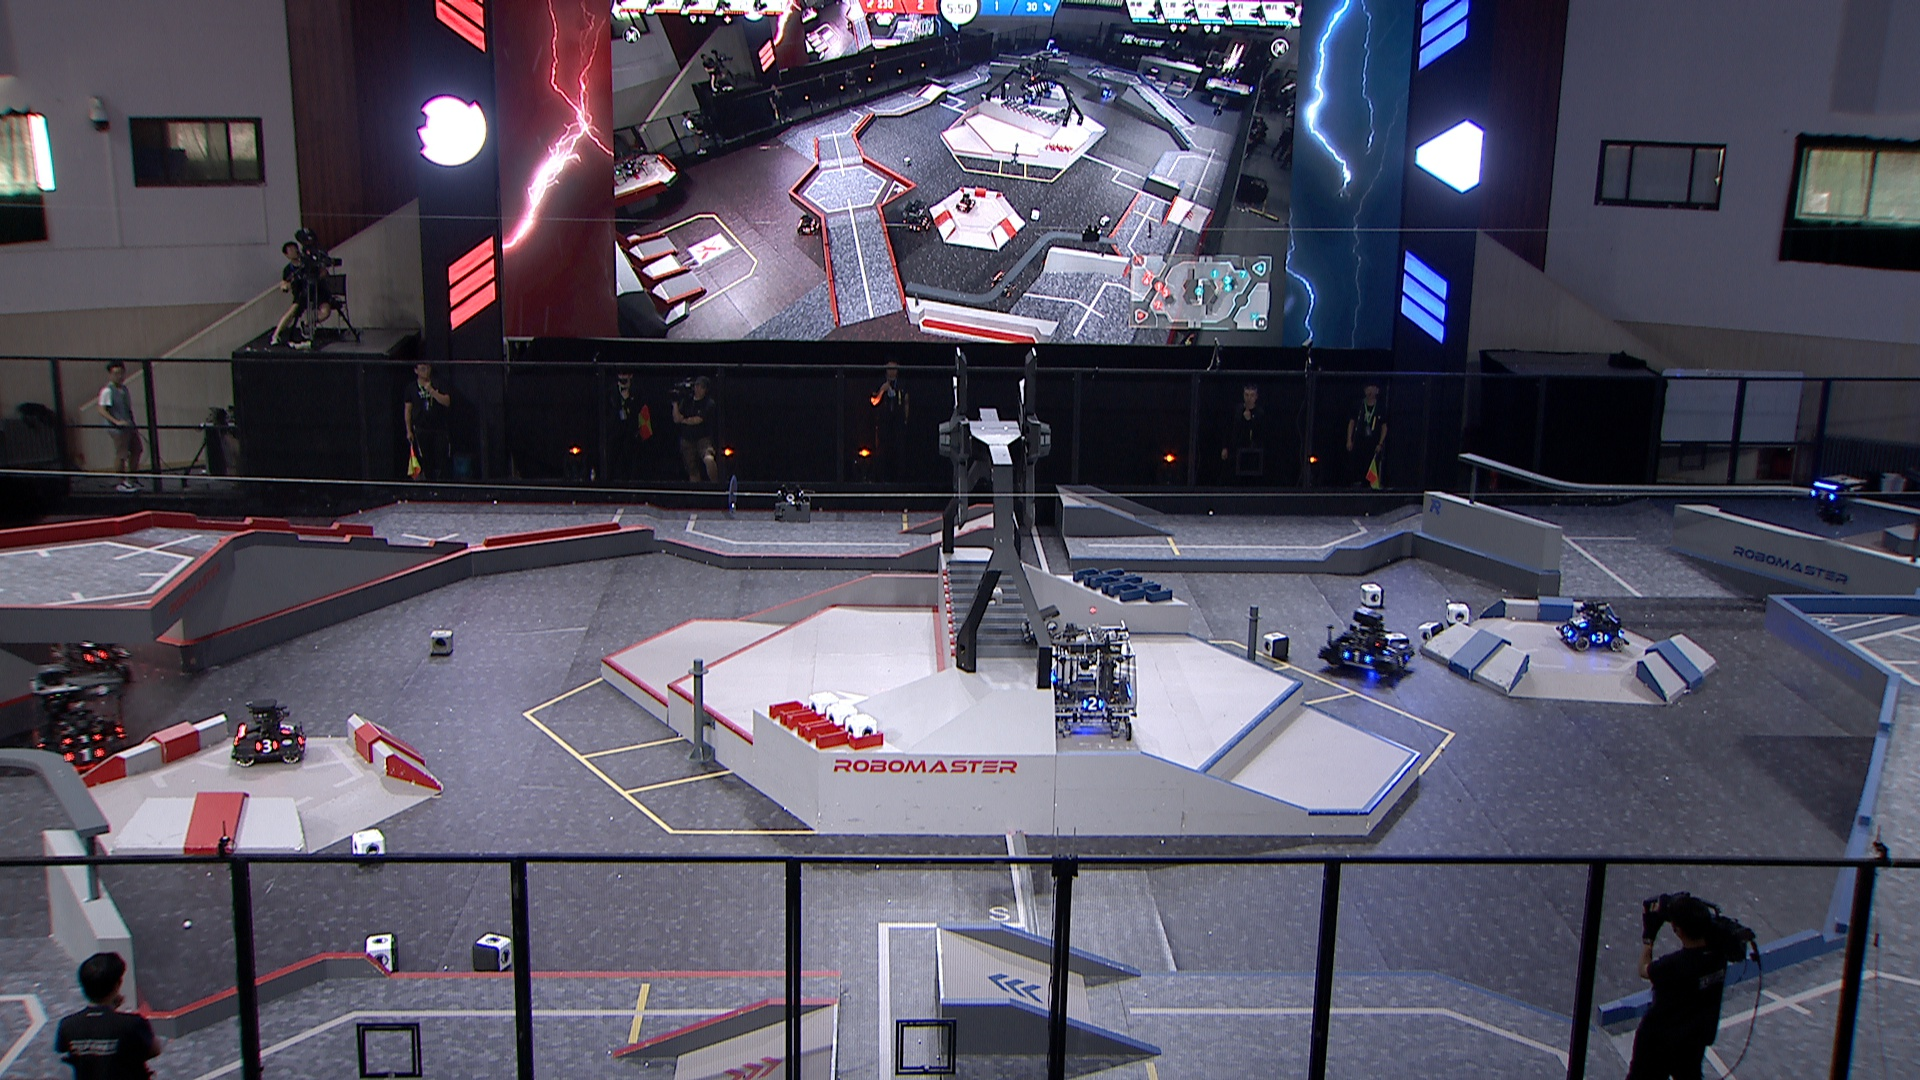armor: (63, 746, 107, 766), (63, 732, 105, 745), (1081, 695, 1106, 713), (253, 738, 282, 754), (1342, 650, 1371, 666), (84, 647, 111, 665), (1811, 489, 1840, 502), (1590, 629, 1611, 646), (1393, 654, 1411, 671), (277, 723, 295, 736), (1382, 644, 1400, 657), (1575, 616, 1592, 628), (1563, 626, 1575, 638)
car: (26, 659, 133, 774), (1044, 622, 1141, 742), (1317, 604, 1418, 683), (233, 699, 306, 765), (1557, 599, 1631, 655), (55, 618, 131, 670)
ignore: (901, 200, 932, 232), (989, 272, 1019, 301), (796, 211, 822, 233), (955, 193, 975, 214), (1044, 36, 1060, 51), (1097, 86, 1114, 98), (1051, 47, 1060, 58)
watcher: (1809, 475, 1865, 527)
